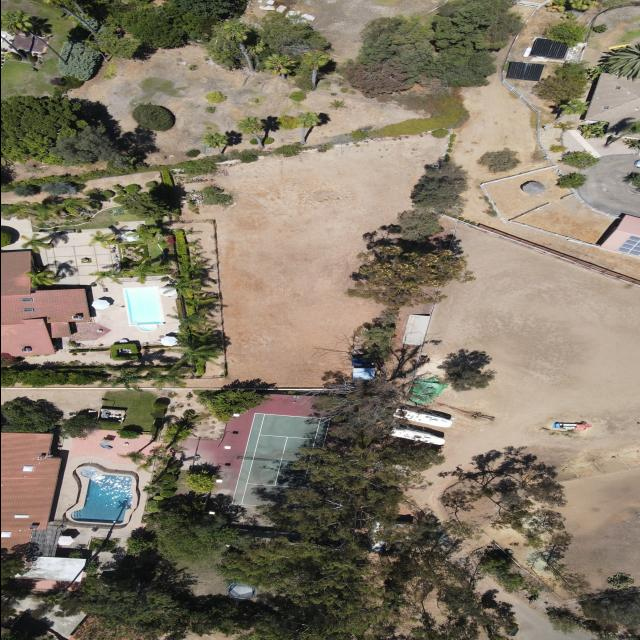solar-panels: (615, 233, 640, 257)
